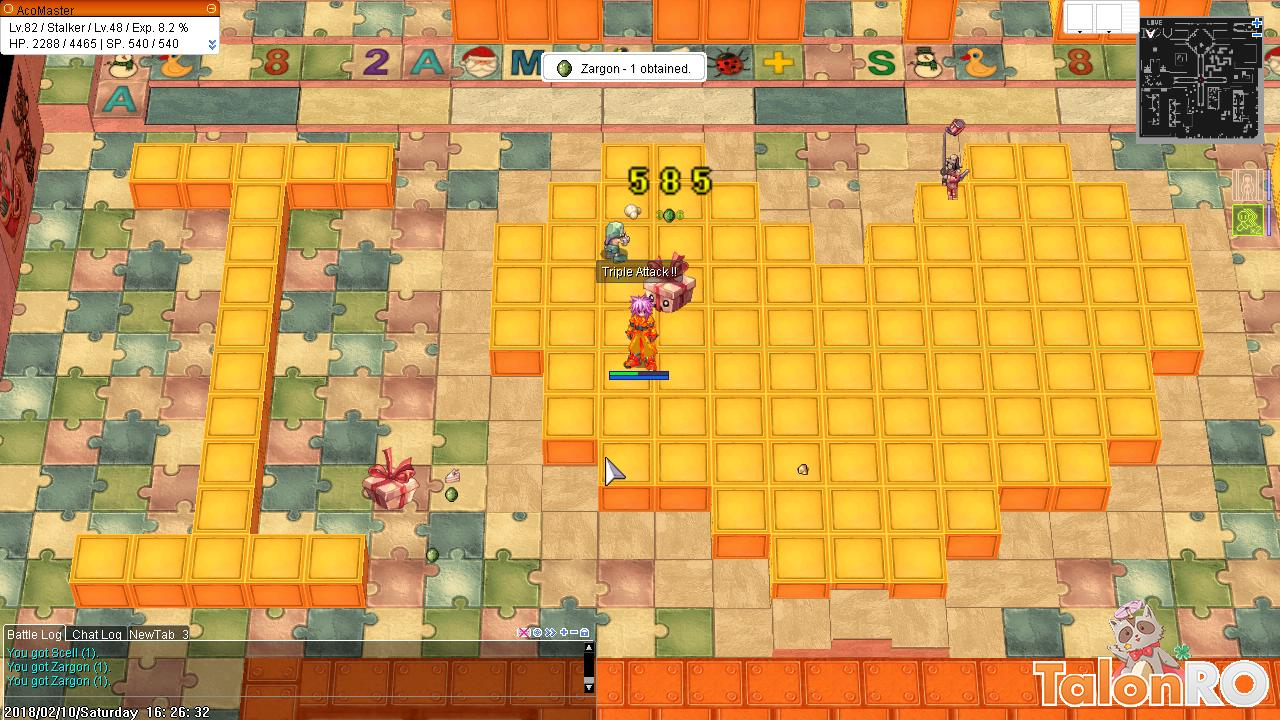loot: (616, 198, 650, 223), (439, 460, 467, 488), (655, 199, 682, 225), (793, 453, 815, 484), (420, 542, 444, 568), (439, 485, 466, 507)
myst_case: (357, 442, 423, 522), (640, 252, 701, 321)
